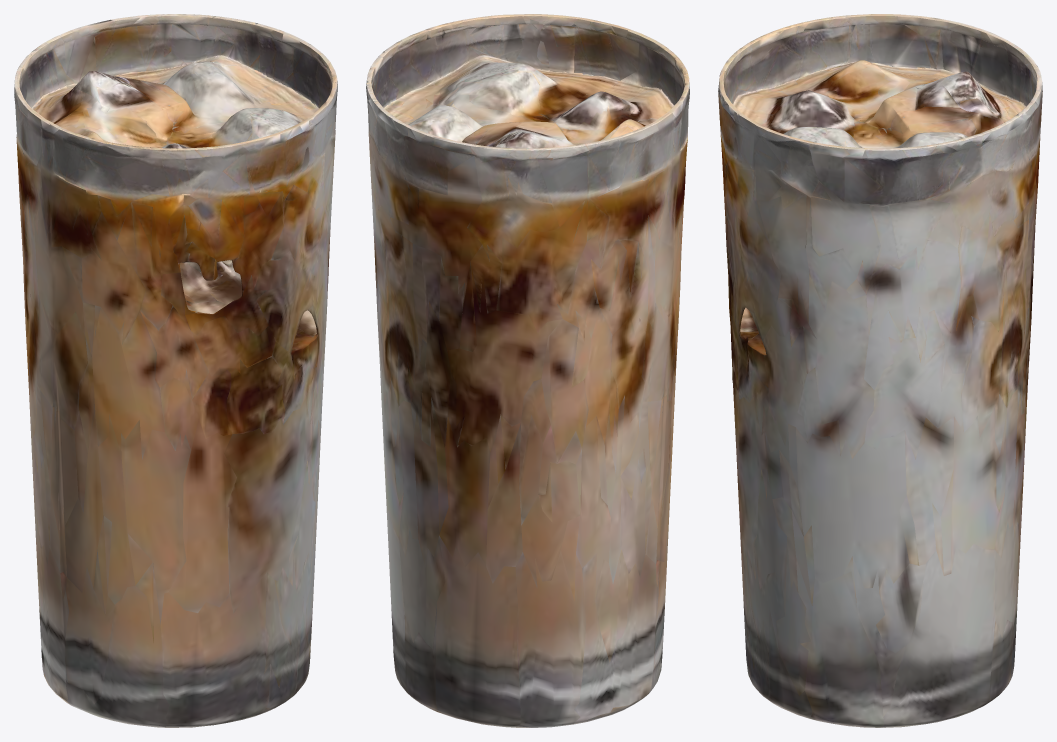
Rendered from wet-cobble-lite.glb.
3 renders of one model, left to right at view 1: azimuth 30°, elevation 25°; view 2: azimuth 150°, elevation 25°; view 3: azimuth 270°, elevation 25°, orthographic.
Visible parts, largest first — view 1: Mesh_0; view 2: Mesh_0; view 3: Mesh_0.
Boxes of the visible parts, <box> form: Mesh_0: <box>14,14,337,727</box>; Mesh_0: <box>366,14,689,727</box>; Mesh_0: <box>718,14,1042,727</box>.
Bounding box in the file's own units: 0.9413 × 1.9 × 0.9404.
Materials: 1 (1 with a texture image).
